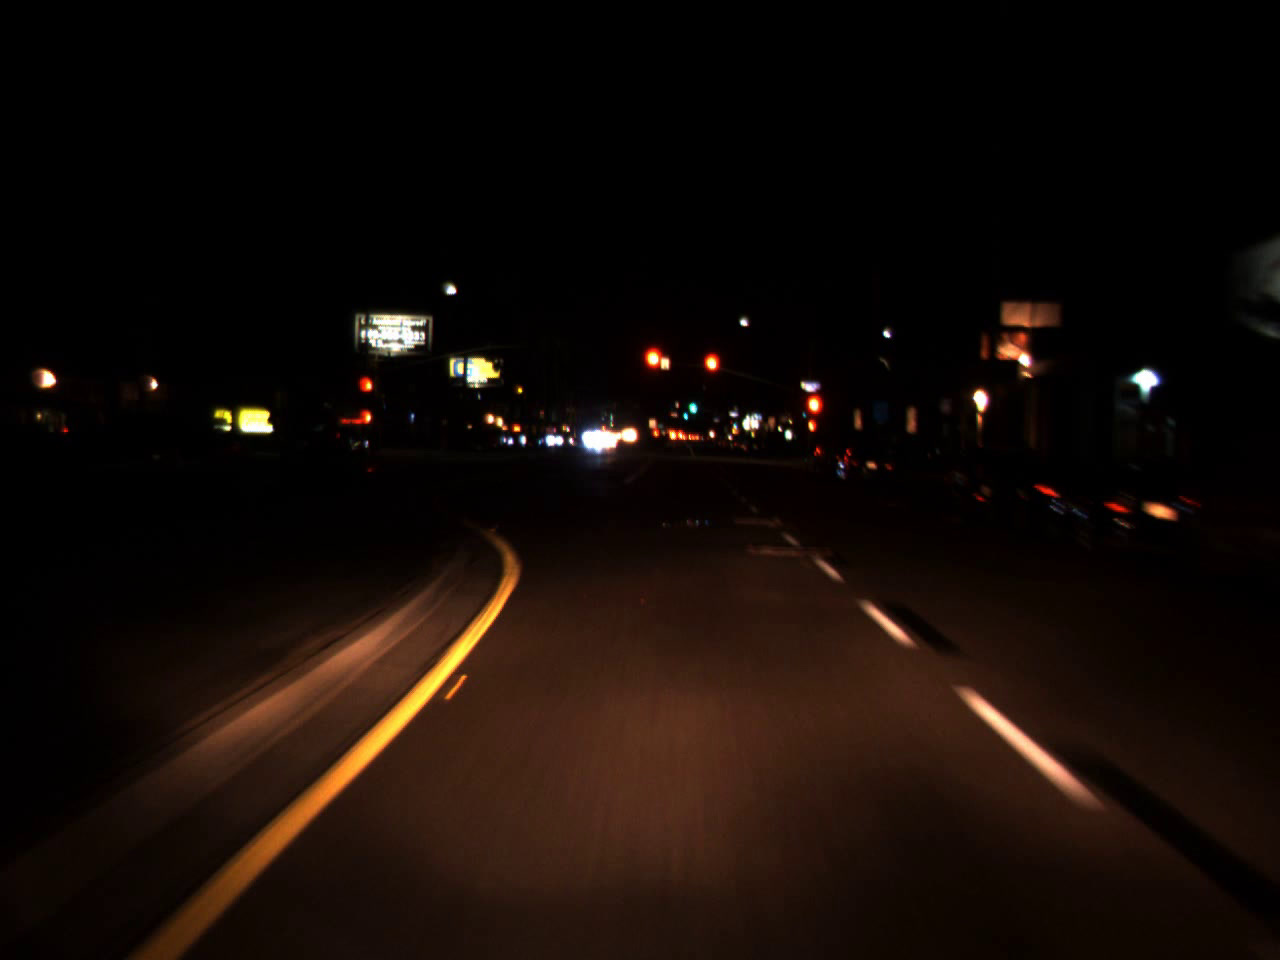go: (687, 393, 697, 414), (681, 408, 688, 419)
stop: (641, 344, 668, 395), (804, 391, 825, 439), (701, 351, 720, 391), (359, 374, 374, 409)
